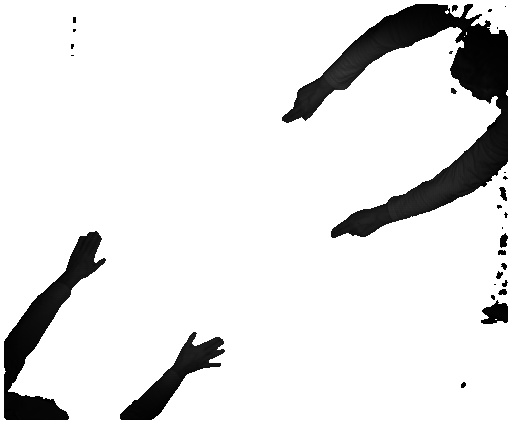hand: (65, 224, 111, 284), (179, 328, 231, 377), (280, 82, 327, 127), (328, 207, 387, 239)
